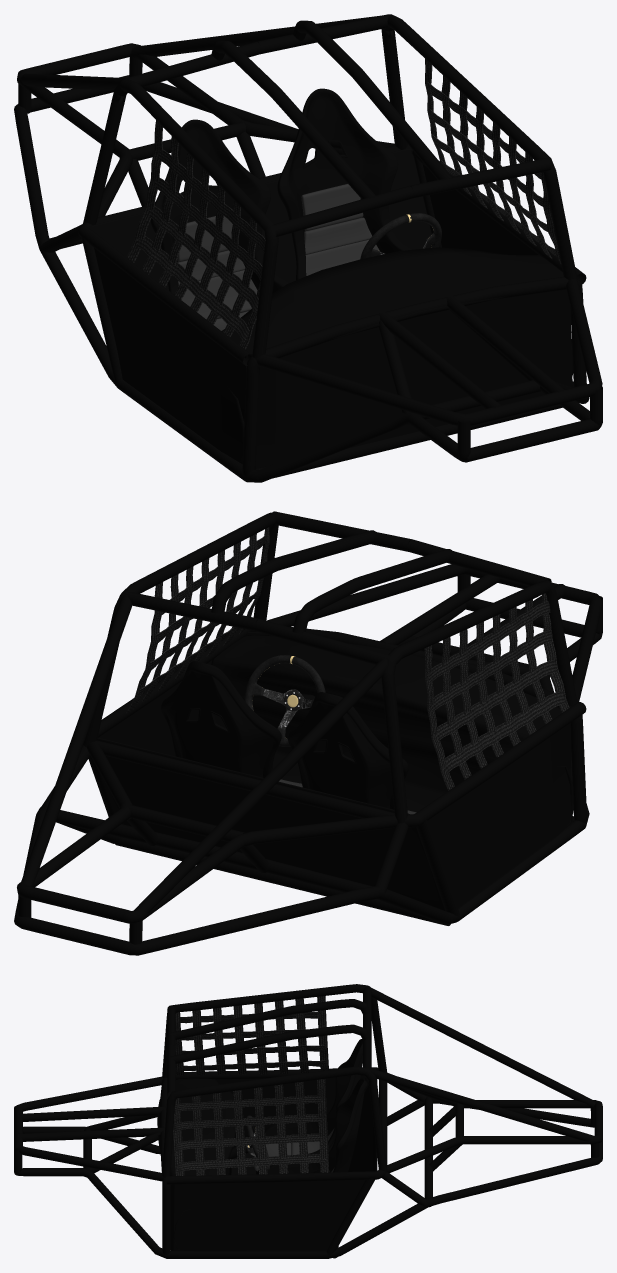
File: Dune Buggy.glb
3 views of the same model, one above another, from view 1: azimuth 30°, elevation 25°; view 2: azimuth 150°, elevation 25°; view 3: azimuth 270°, elevation 25° (orthographic). The views are drawn at different scales.
Visible parts, largest first — view 1: body, interior, nets, driverseat, passengerseat, steeringwheel; view 2: body, interior, nets, driverseat, passengerseat, steeringwheel; view 3: body, interior, nets, driverseat, passengerseat.
Part boxes in pixels (x1,y1,x2,y2): body: [14, 14, 602, 482]; interior: [90, 148, 573, 468]; nets: [127, 59, 561, 349]; driverseat: [277, 88, 412, 280]; passengerseat: [150, 119, 289, 330]; steeringwheel: [360, 213, 441, 259]; body: [14, 511, 602, 955]; interior: [97, 632, 573, 910]; nets: [126, 527, 569, 790]; driverseat: [161, 661, 302, 787]; passengerseat: [288, 692, 416, 814]; steeringwheel: [244, 655, 325, 746]; body: [14, 984, 602, 1258]; interior: [157, 1076, 377, 1251]; nets: [173, 996, 329, 1175]; driverseat: [267, 1078, 367, 1173]; passengerseat: [254, 1039, 362, 1174].
Size of the model in its own units: 1.7 by 1.44 by 3.92.
Materials: 13 (6 with a texture image).
